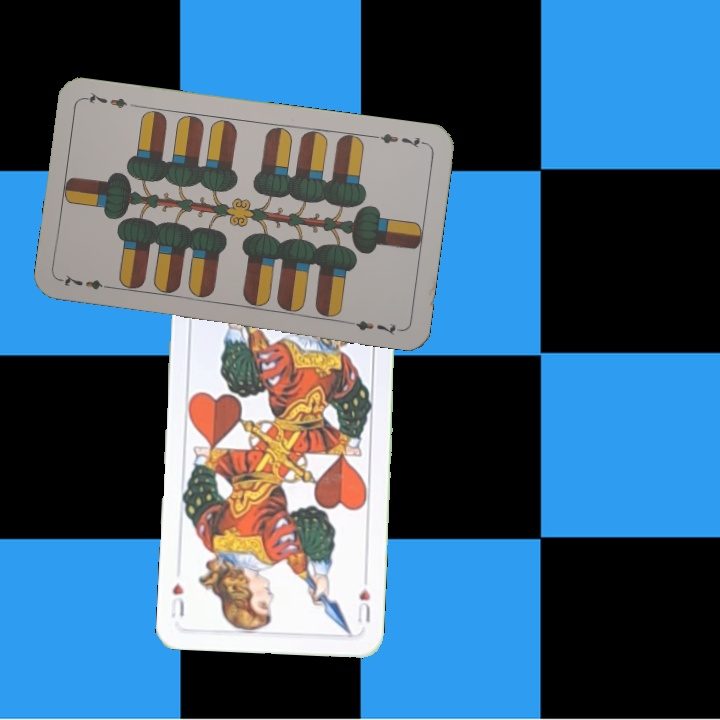E7: (369, 129, 429, 151), (58, 271, 117, 292)
HU: (353, 573, 373, 625)
